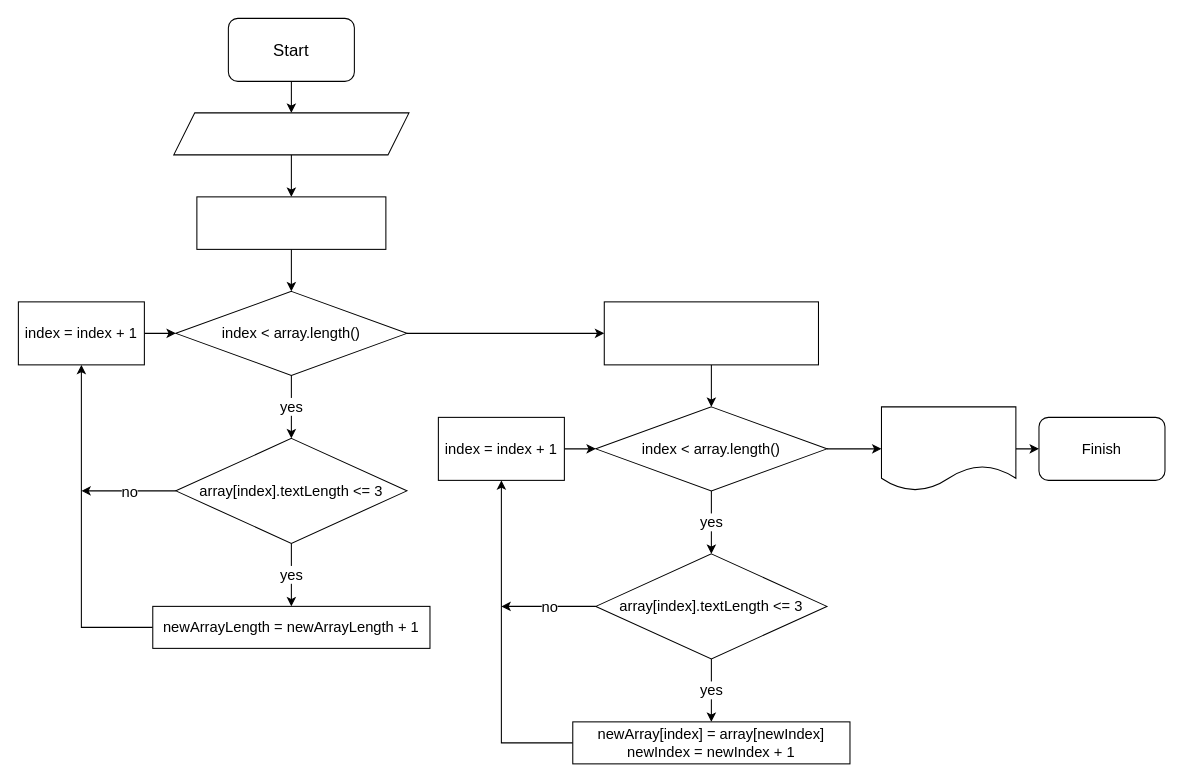
Image size: 1183x782. Some labels were removed from this diagram. The centre of each missing label's shape, as x and y in pixels:
array = [hello, 2, world, :-)]: the point at 291,133
newArray = [newArrayLength] index = 0 newIndex = 0: the point at 710,333
newArrayLength = 0 index = 0: the point at 291,222
print newArray: the point at 948,448
